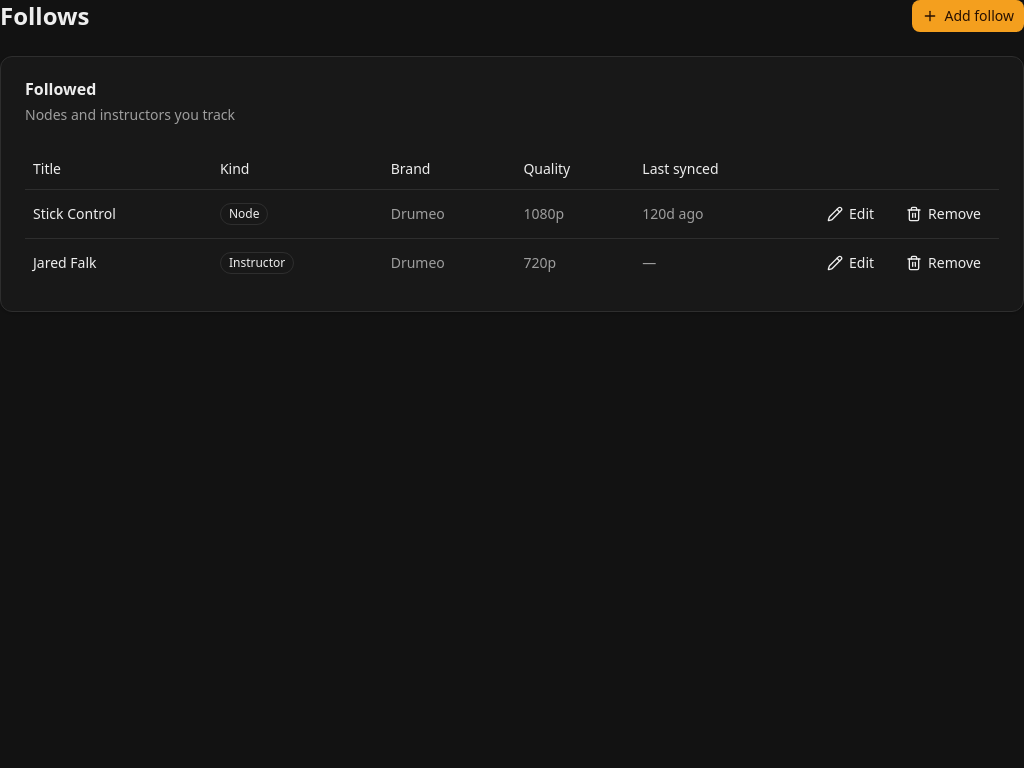
Scenario: unfollows without ?files= by default (files left on disk) and invalidates the follows list
Click the button named "remove stick control". click: (944, 214)
box: [896, 198, 991, 230]
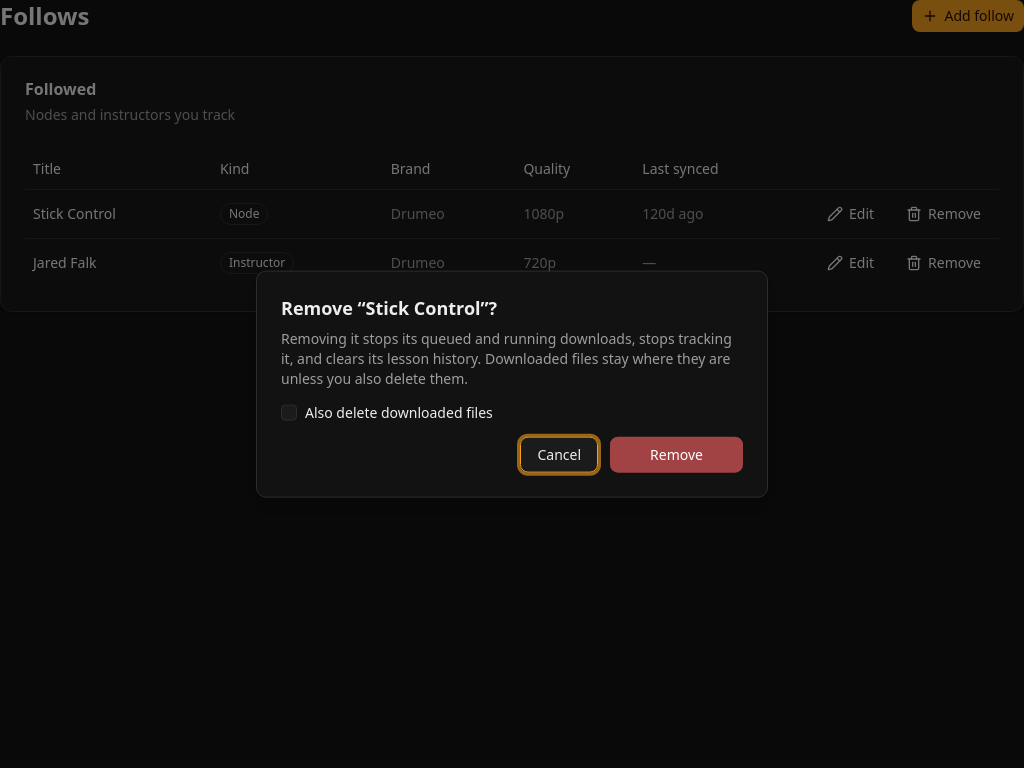
// Confirm without ticking the checkbox.
Click the button "Remove". click: (676, 454)
box: [610, 436, 743, 472]
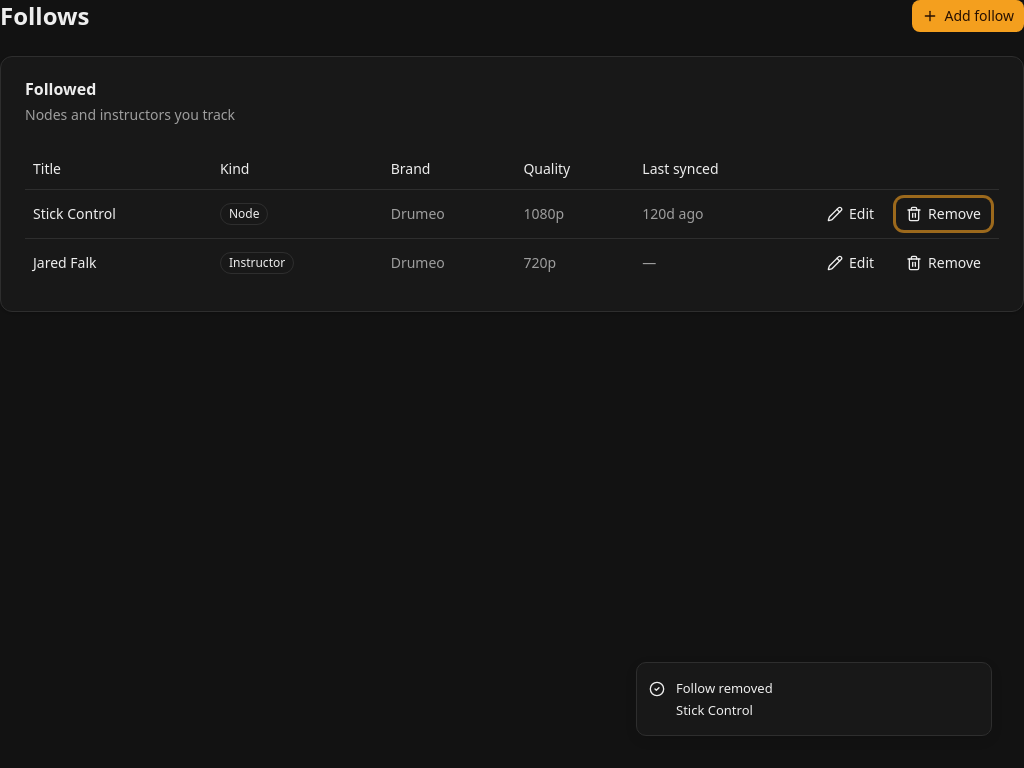
Now the text "Follow removed" is shown, box [676, 679, 773, 699]
